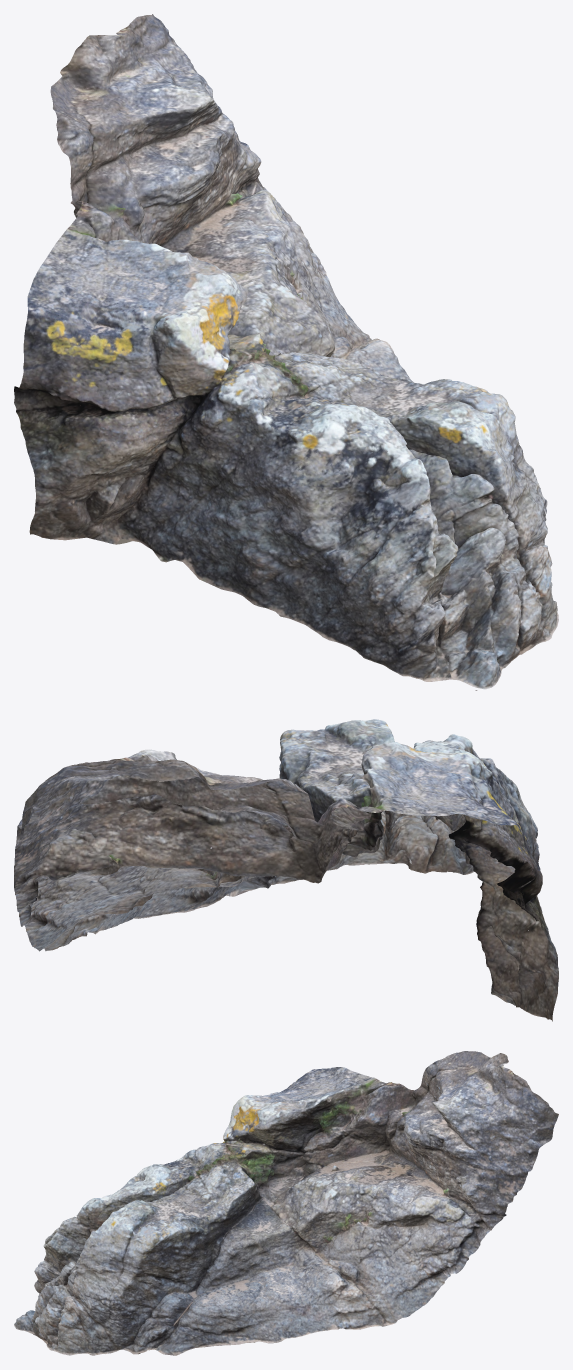
Rendered from beach_rock.glb.
3 renders of one model, top to bottom at view 1: azimuth 30°, elevation 25°; view 2: azimuth 150°, elevation 25°; view 3: azimuth 270°, elevation 25°, orthographic. The views are drawn at different scales.
Parts seen in each view (by area): view 1: Object_5, Object_6, Object_8, Object_4, Object_7, Object_9; view 2: Object_4, Object_5, Object_6, Object_9, Object_7, Object_8; view 3: Object_7, Object_4, Object_6, Object_9, Object_5, Object_8.
Boxes of the visible parts, x1=… form: Object_5: x1=28, y1=238, x2=547, y2=688; Object_6: x1=28, y1=205, x2=412, y2=598; Object_8: x1=14, y1=273, x2=558, y2=673; Object_4: x1=46, y1=14, x2=407, y2=633; Object_7: x1=85, y1=236, x2=541, y2=690; Object_9: x1=14, y1=133, x2=371, y2=496; Object_4: x1=14, y1=749, x2=539, y2=950; Object_5: x1=210, y1=719, x2=558, y2=1021; Object_6: x1=85, y1=742, x2=535, y2=992; Object_9: x1=14, y1=780, x2=544, y2=951; Object_7: x1=65, y1=741, x2=531, y2=1002; Object_8: x1=235, y1=719, x2=558, y2=1019; Object_7: x1=14, y1=1083, x2=380, y2=1354; Object_4: x1=254, y1=1051, x2=558, y2=1329; Object_6: x1=163, y1=1067, x2=394, y2=1355; Object_9: x1=284, y1=1065, x2=524, y2=1325; Object_5: x1=34, y1=1080, x2=397, y2=1314; Object_8: x1=20, y1=1067, x2=340, y2=1355.
Bounding box in the file's own units: 0.3275 × 0.2884 × 0.5394.
1 material, 1 textured.
